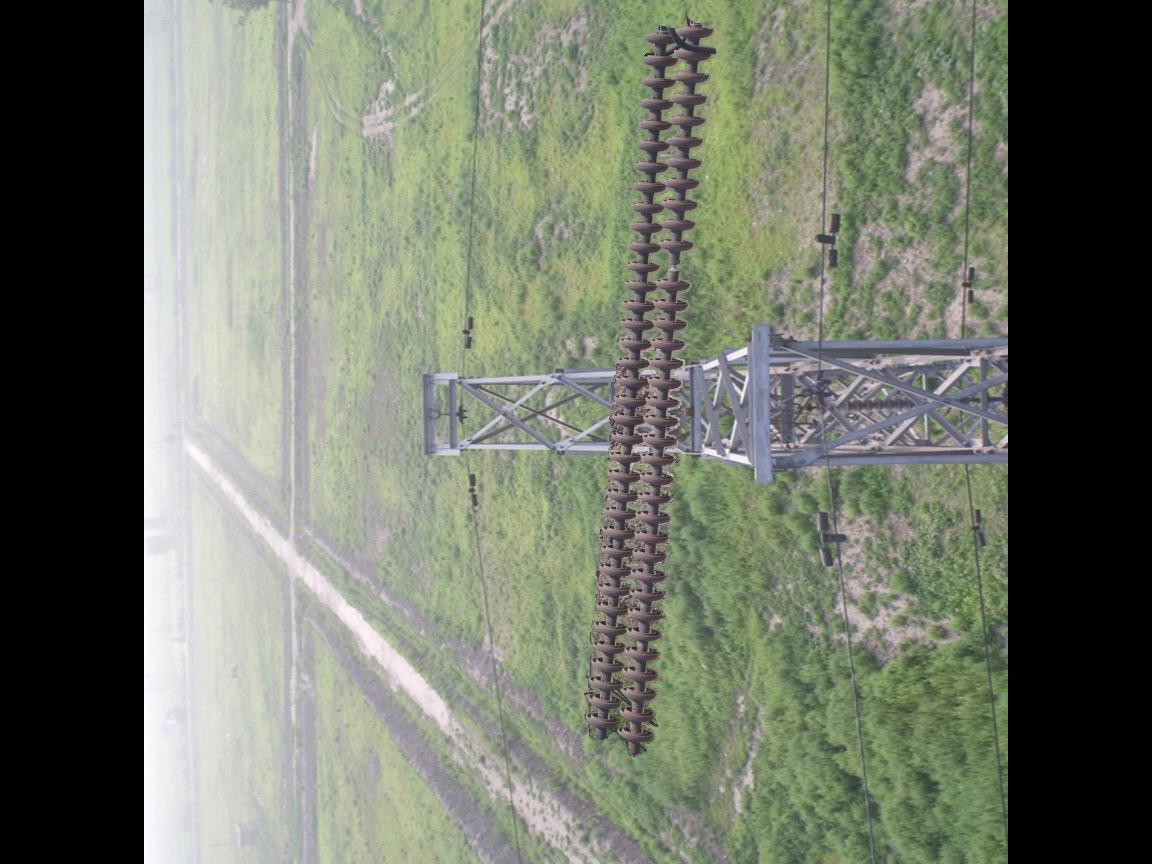insulator: (580, 19, 721, 753), (833, 390, 914, 419)
insulator_stringdrop: (653, 237, 697, 296)
